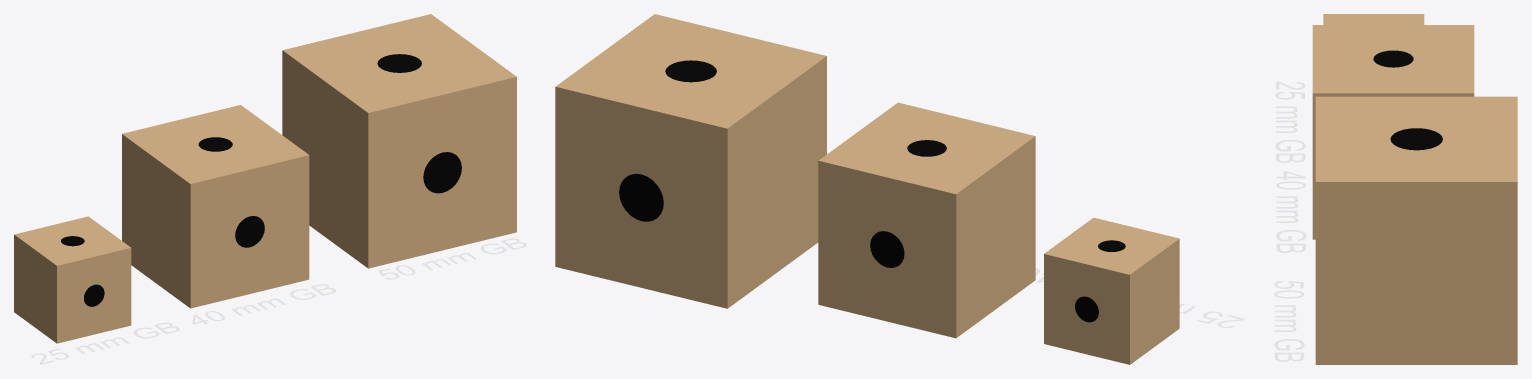
Rendered from gridbeam_set-metric.dae.
The picture shows the model from 3 angles, left to right: view 1: azimuth 30°, elevation 25°; view 2: azimuth 150°, elevation 25°; view 3: azimuth 270°, elevation 25°; orthographic projection. The views are drawn at different scales.
Visible parts, largest first — view 1: _50mm_GB_segment (×3), _40mm_GB_segment (×3), _25mm_GB_segment; view 2: _50mm_GB_segment (×3), _40mm_GB_segment (×3), _25mm_GB_segment; view 3: _50mm_GB_segment (×2), _40mm_GB_segment (×2), _25mm_GB_segment, _50_mm_GB.
Part boxes in pixels (x1,y1,x2,y2): _50mm_GB_segment (×3): (282,14,516,268); _40mm_GB_segment (×3): (122,105,309,308); _25mm_GB_segment: (14,216,131,343); _50mm_GB_segment (×3): (555,14,826,308); _40mm_GB_segment (×3): (818,102,1035,338); _25mm_GB_segment: (1044,217,1179,364); _50mm_GB_segment (×2): (1315,96,1517,364); _40mm_GB_segment (×2): (1312,25,1474,239); _25mm_GB_segment: (1323,14,1424,24); _50_mm_GB: (1274,352,1304,361).
Bounding box in the file's own units: 6.53 × 2.37 × 2.
